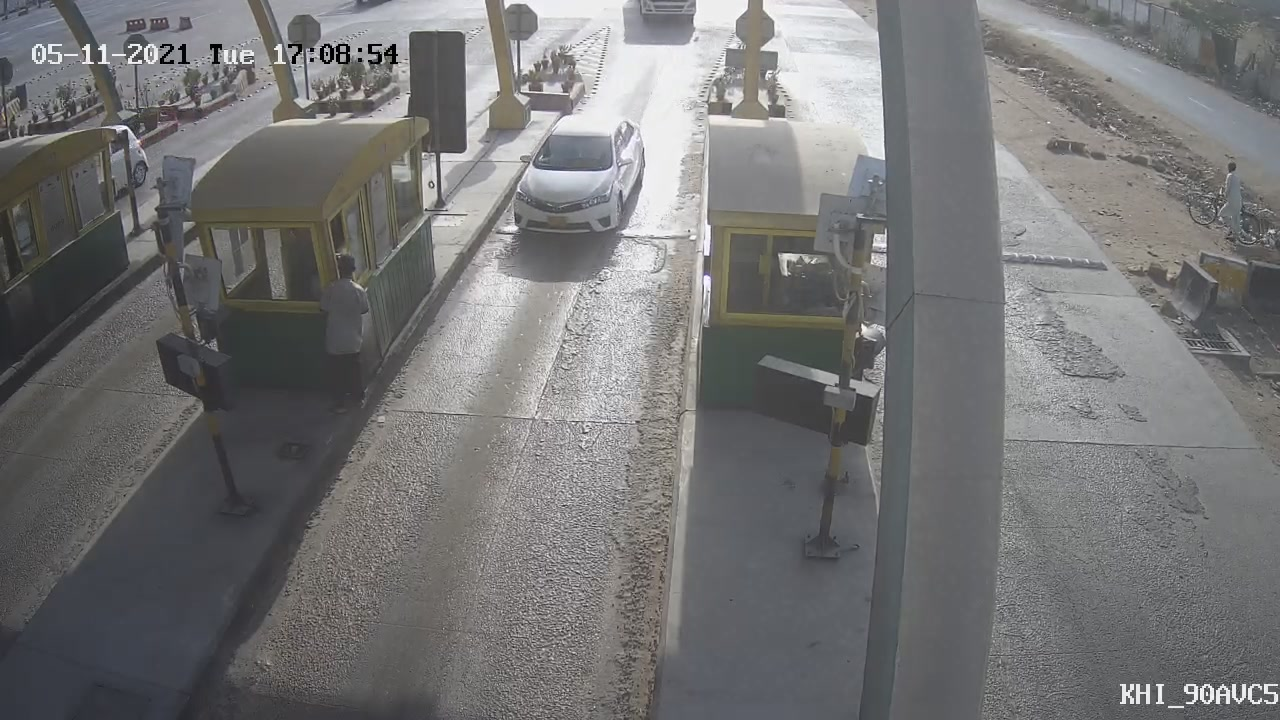F1: (496, 98, 656, 255)
